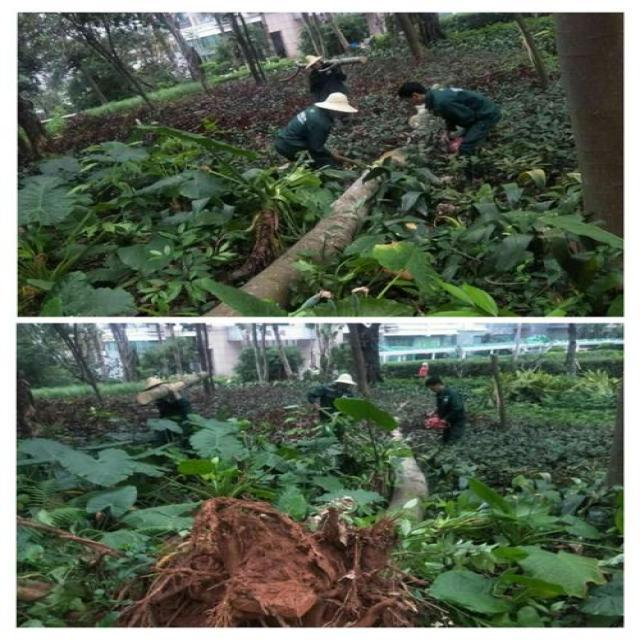fallen_object: (202, 395, 435, 628), (198, 138, 444, 315)
